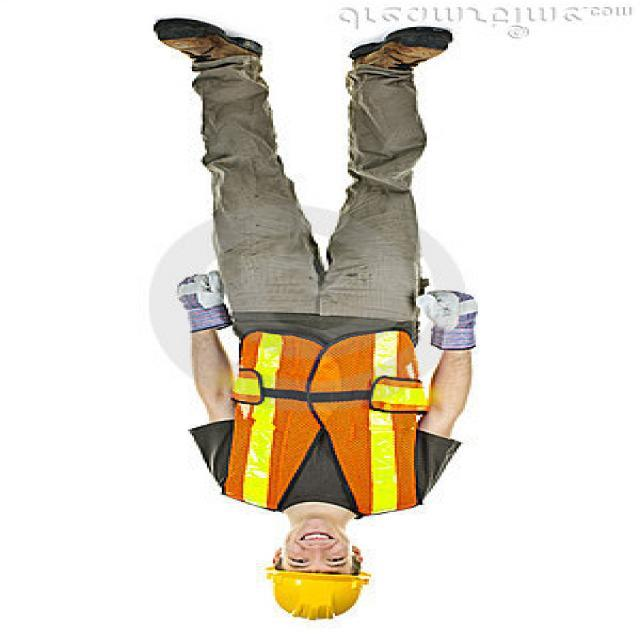safetyhelmet: (254, 530, 375, 624)
